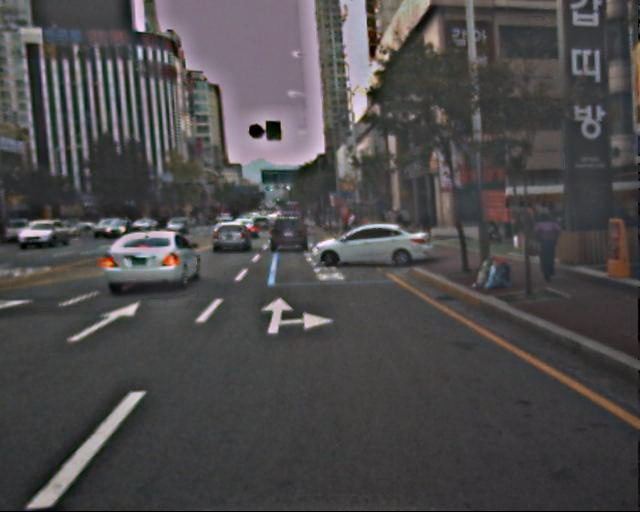person: (532, 207, 562, 281), (520, 201, 543, 256)
